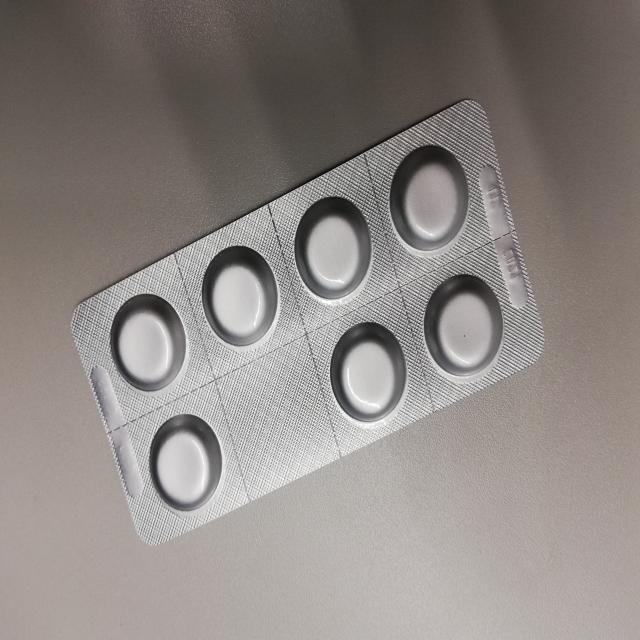Pill: (199, 235, 286, 359), (290, 192, 381, 302), (392, 141, 482, 252), (321, 313, 410, 422), (100, 291, 190, 396), (142, 408, 222, 520), (425, 274, 507, 382)
